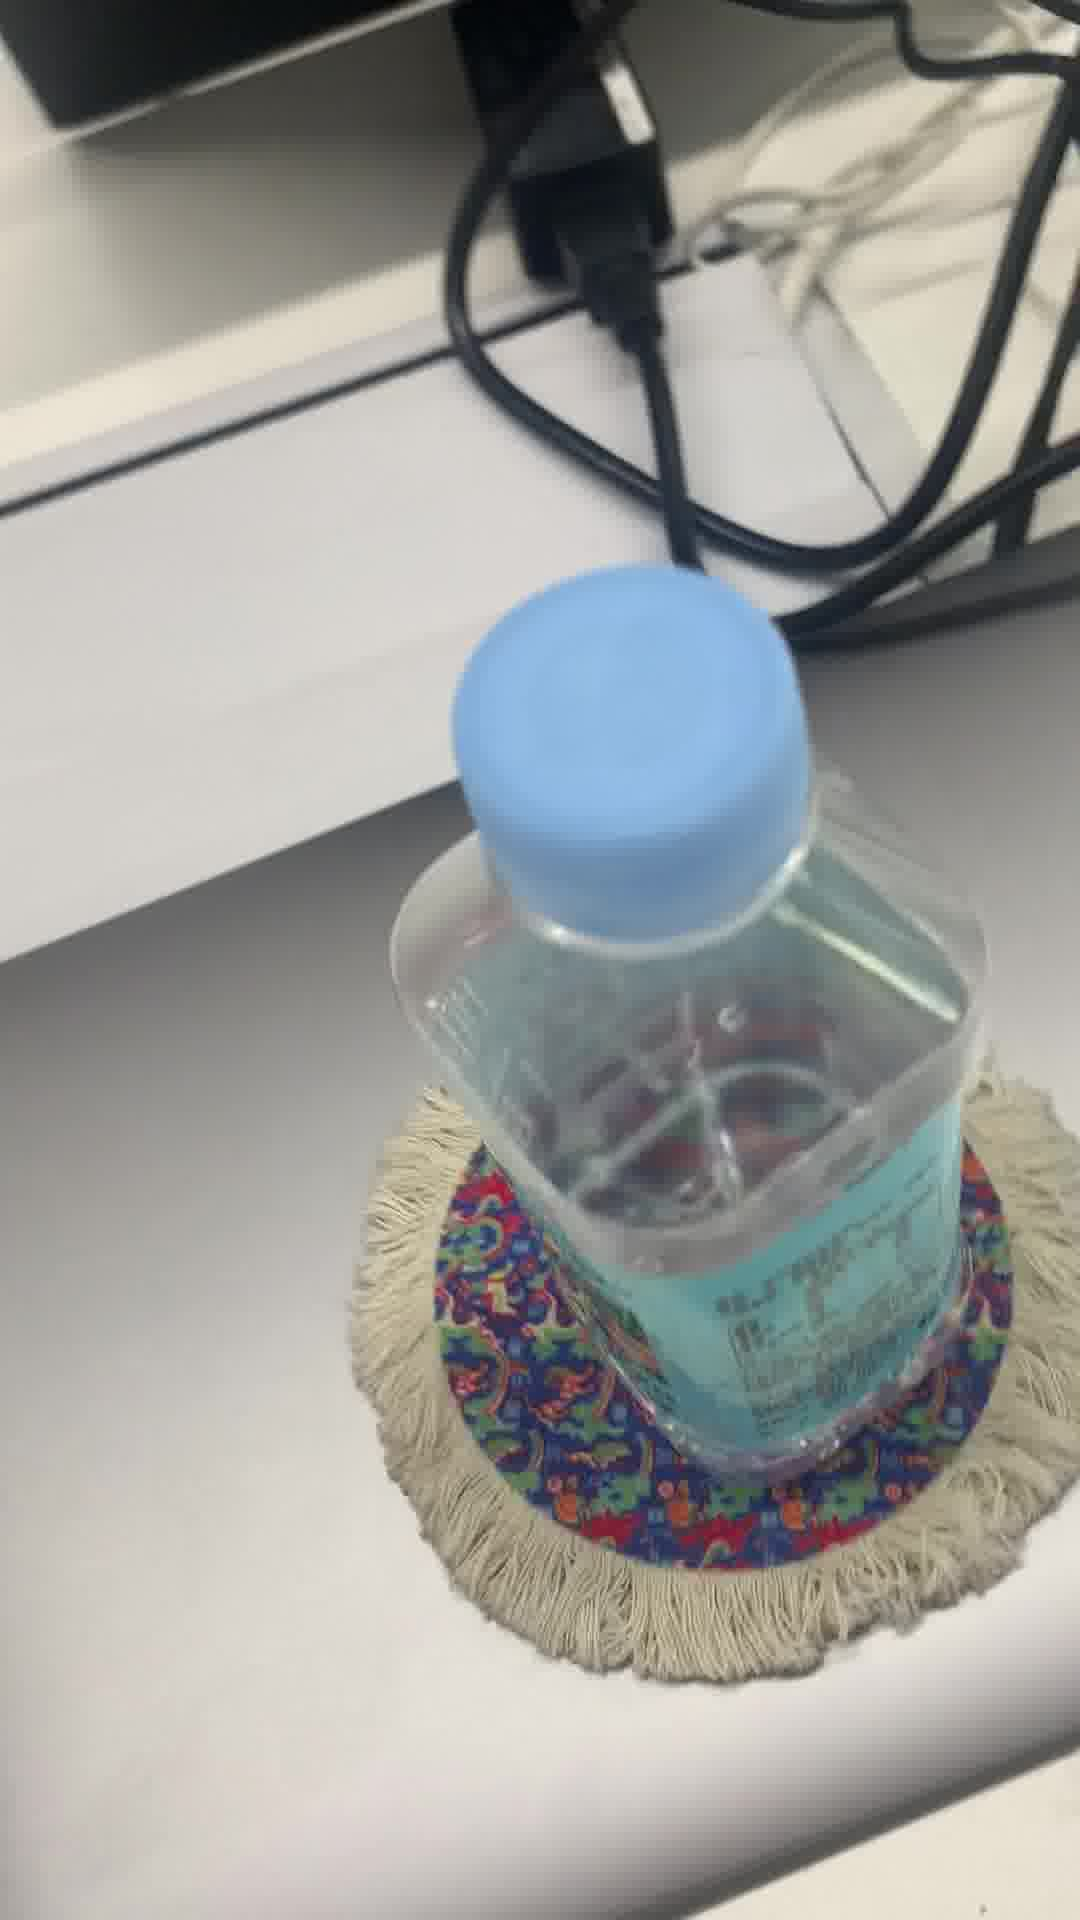水瓶: (369, 556, 984, 1501)
